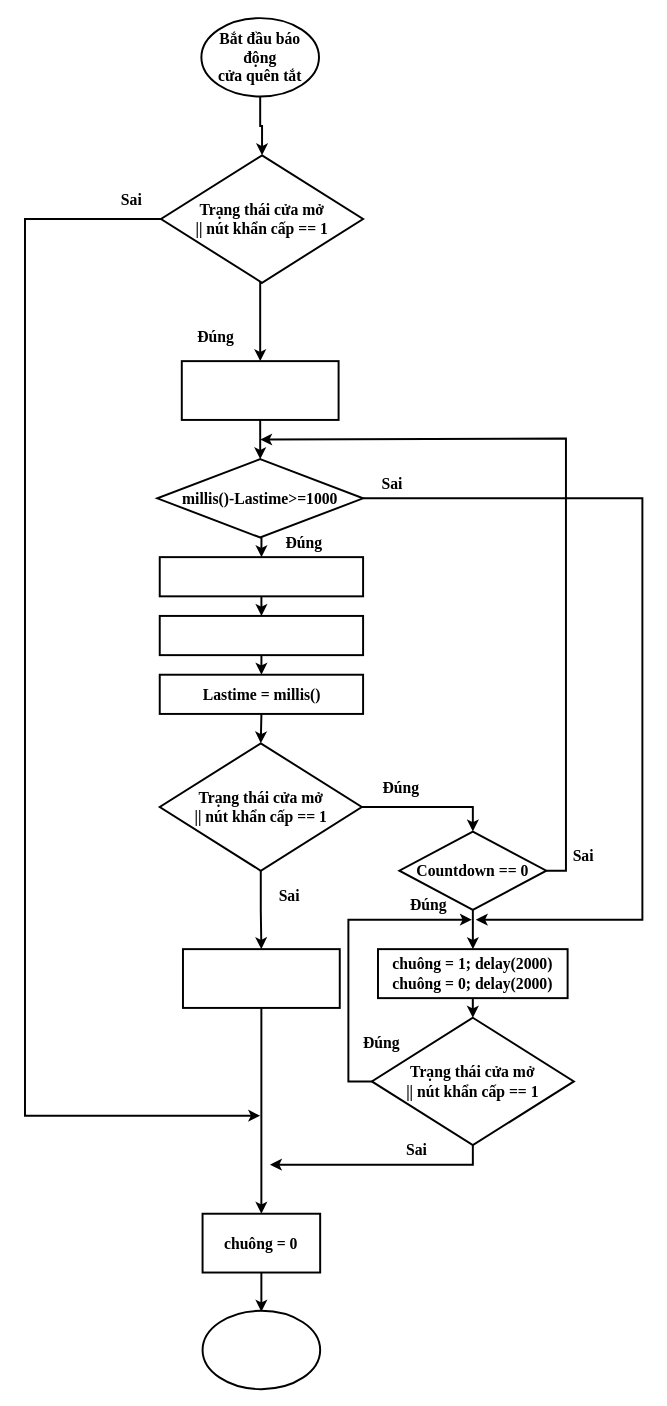
Image size: 667x1406. Some labels were removed from this diagram. The shapes that lost their labels are listed below. From the top down, each one's centre as x and y in pixels, then its label:
At point (259, 390): "Countdown = 15s".
At point (261, 576): "countdown--".
At point (261, 635): "Hiển thị thời gian countdown lên LCD".
At point (260, 978): "Countdown = 0".
At point (261, 1349): "Kết thúc".
